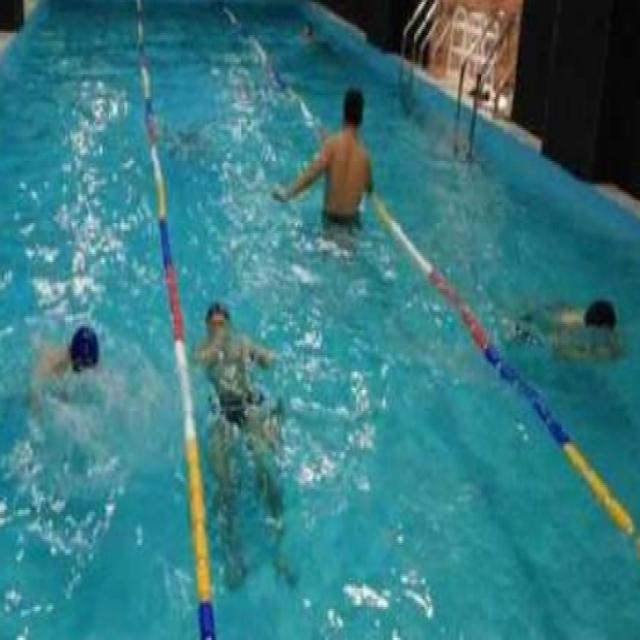Drowning: (191, 301, 285, 481)
Swimming: (274, 82, 376, 228), (27, 322, 122, 410), (520, 292, 627, 365)
